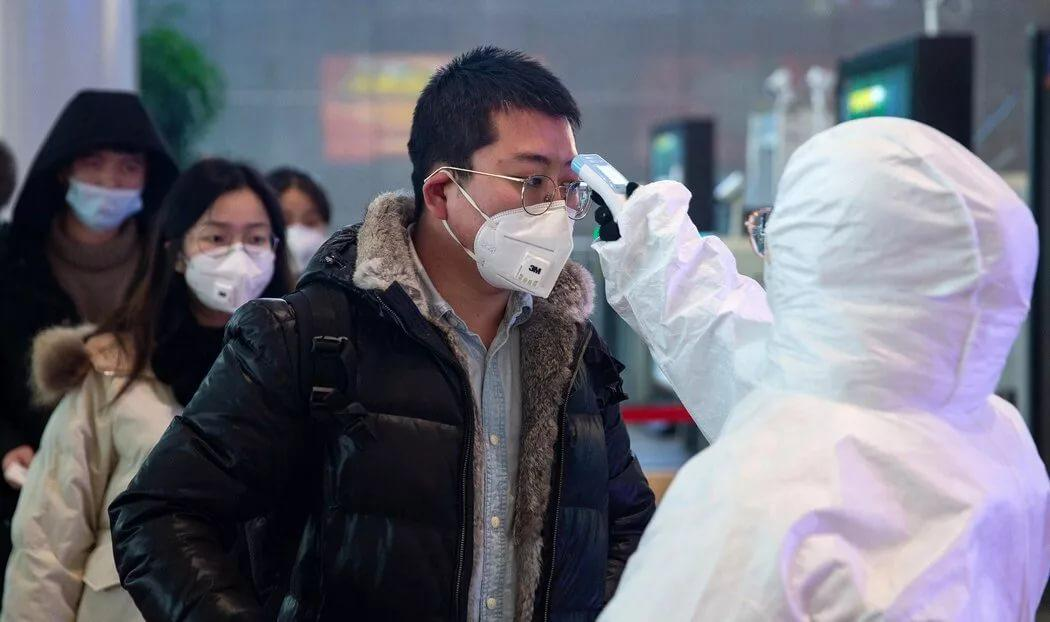mask: (461, 117, 586, 299), (183, 191, 279, 310), (61, 140, 150, 232), (271, 174, 333, 270)
